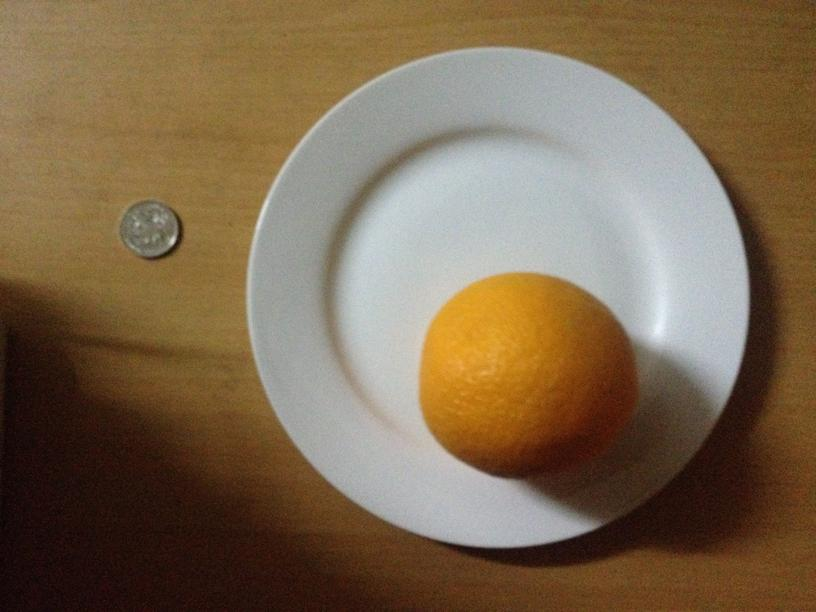coin: (122, 200, 181, 258)
orange: (418, 272, 635, 479)
